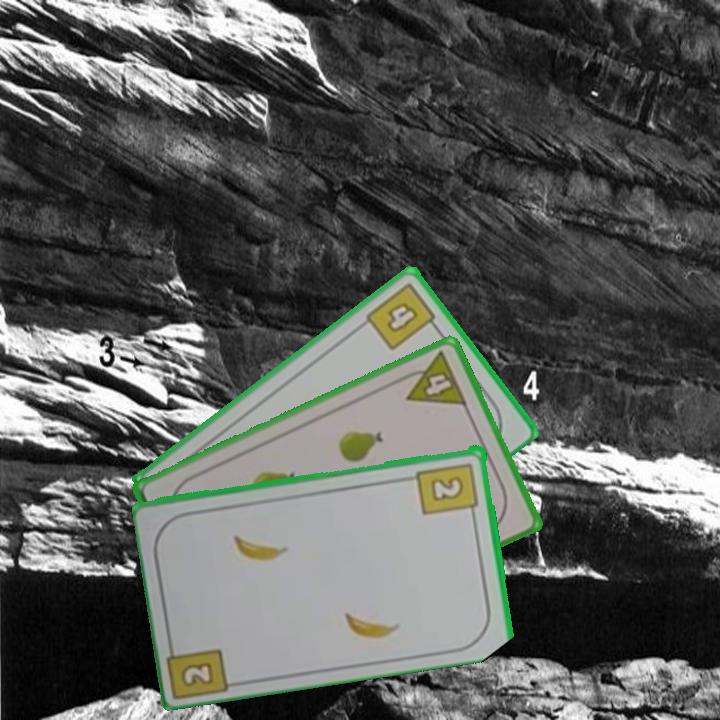2b: (414, 459, 481, 520), (177, 658, 217, 690)
4b: (362, 278, 443, 353)
4p: (394, 347, 470, 409)
